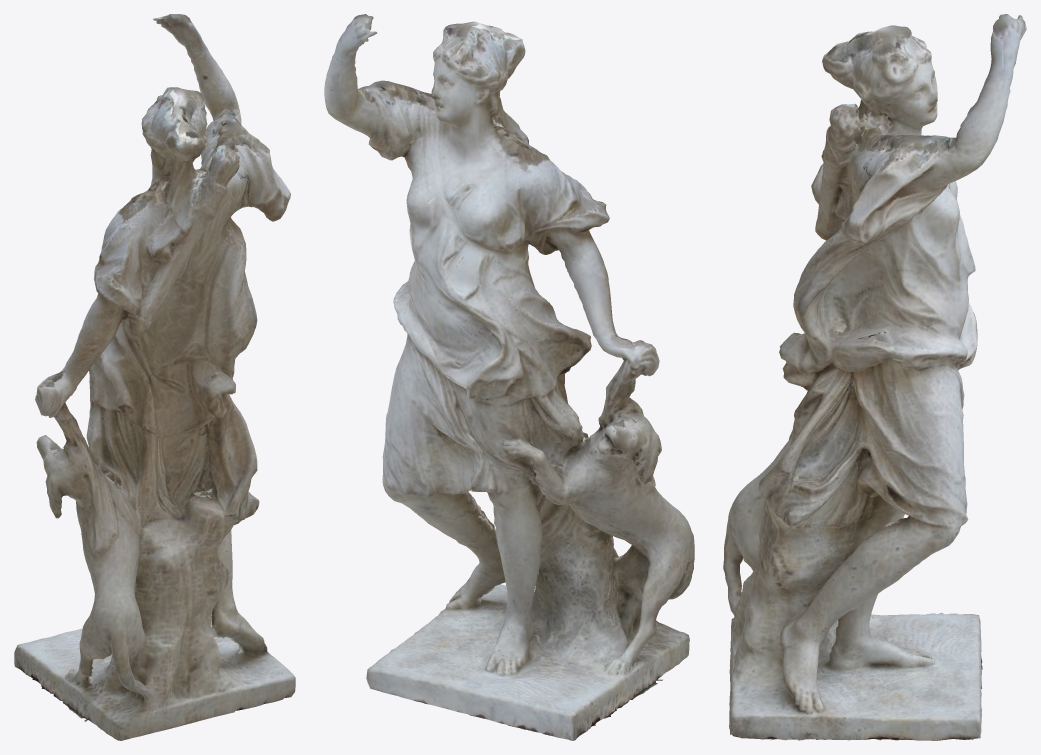
The model's file is diane.glb.
The picture shows the model from 3 angles, left to right: view 1: azimuth 30°, elevation 25°; view 2: azimuth 150°, elevation 25°; view 3: azimuth 270°, elevation 25°; orthographic projection. The views are drawn at different scales.
Visible parts, largest first — view 1: Object_3; view 2: Object_3; view 3: Object_3.
Part boxes in pixels (x1=…): Object_3: x1=14, y1=14, x2=295, y2=740; Object_3: x1=324, y1=14, x2=694, y2=740; Object_3: x1=723, y1=14, x2=1026, y2=740.
Size of the model in its own units: 5.95 by 13.75 by 5.24.
1 material, 1 textured.
